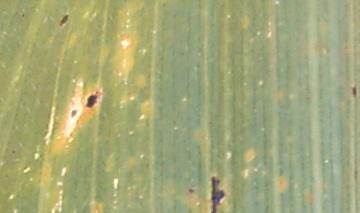tarspot: (210, 175, 225, 213), (86, 95, 98, 108), (58, 13, 69, 27), (351, 85, 358, 100), (70, 108, 77, 118), (187, 188, 195, 194)
